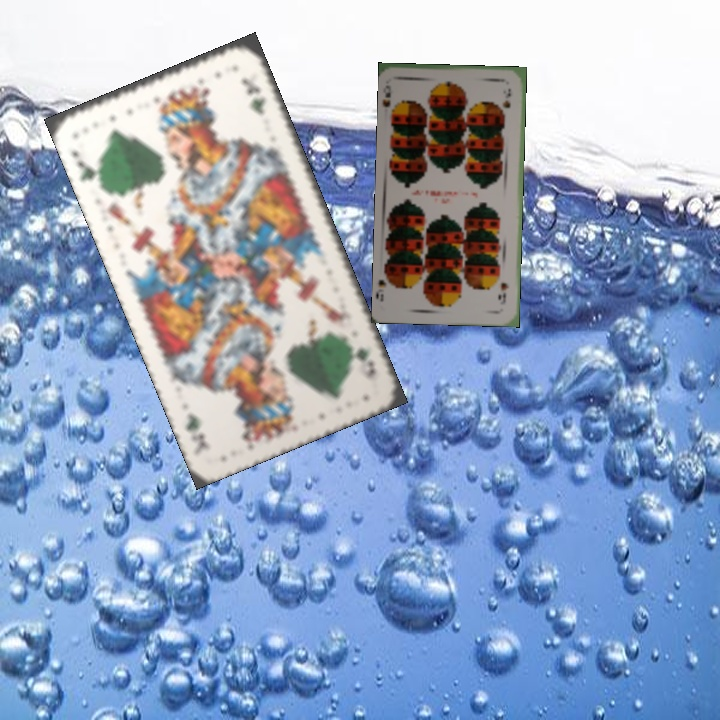GK: (343, 334, 378, 380), (67, 146, 104, 188)
S9: (381, 82, 400, 118), (496, 278, 511, 307)
